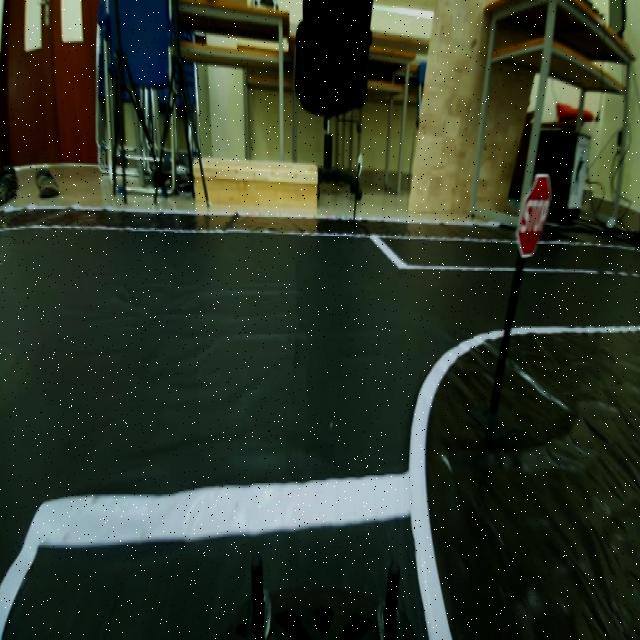stop: (516, 172, 560, 264)
